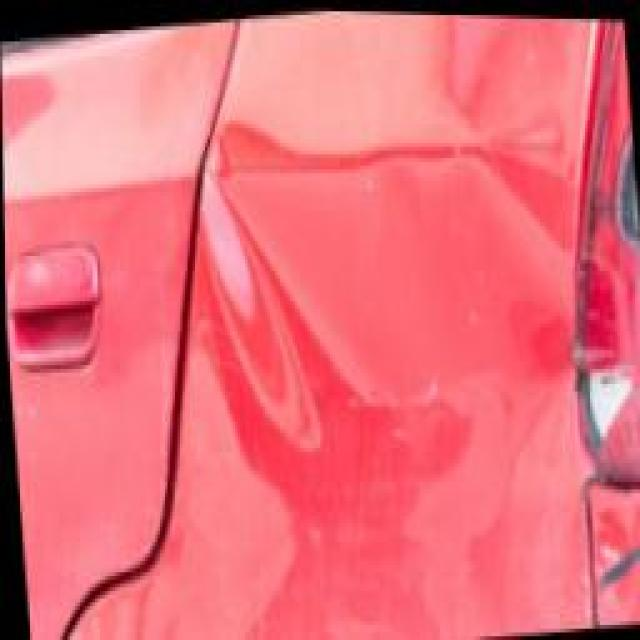Fender: (174, 103, 571, 503)
